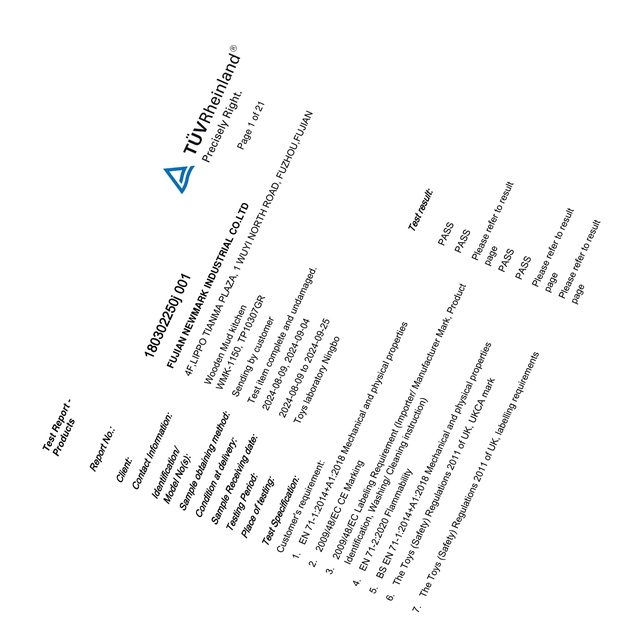tuv_rheinland: (161, 41, 244, 193)
